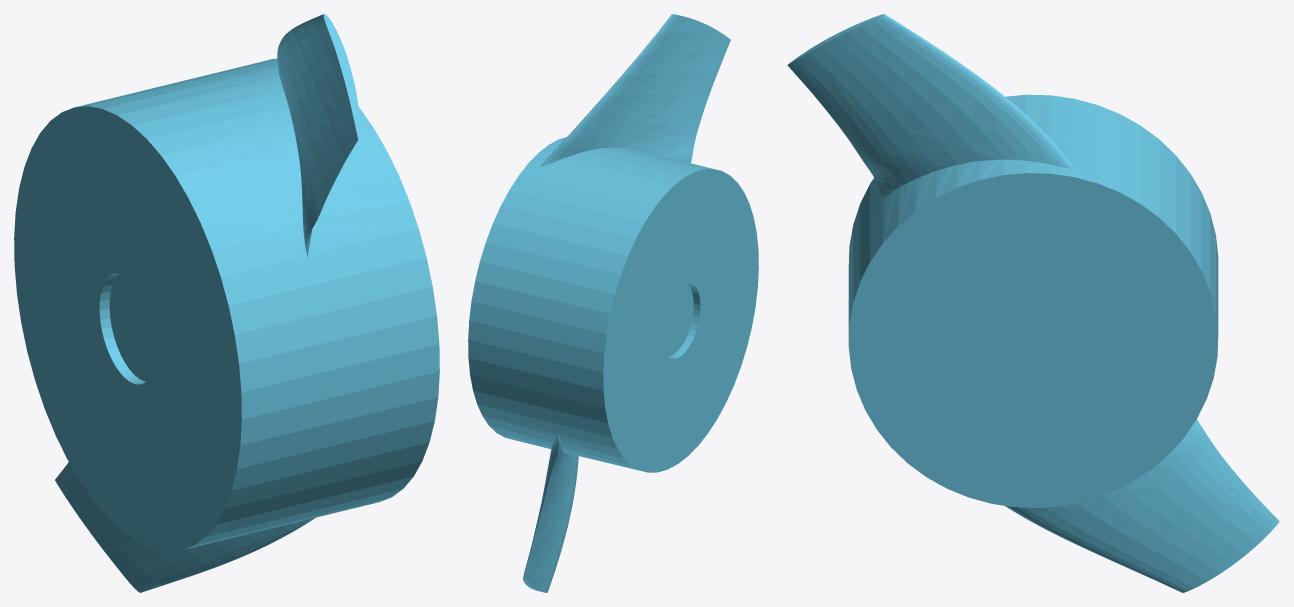
Rendered from propeller.dae.
The picture shows the model from 3 angles, left to right: view 1: azimuth 30°, elevation 25°; view 2: azimuth 150°, elevation 25°; view 3: azimuth 270°, elevation 25°; orthographic projection. The views are drawn at different scales.
Visible parts, largest first — view 1: node; view 2: node; view 3: node.
Part boxes in pixels (x1,y1,x2,y2): node: (14,14,439,592); node: (468,14,758,592); node: (787,14,1279,592).
Size of the model in its own units: 0.0201 by 0.0533 by 0.0691.
